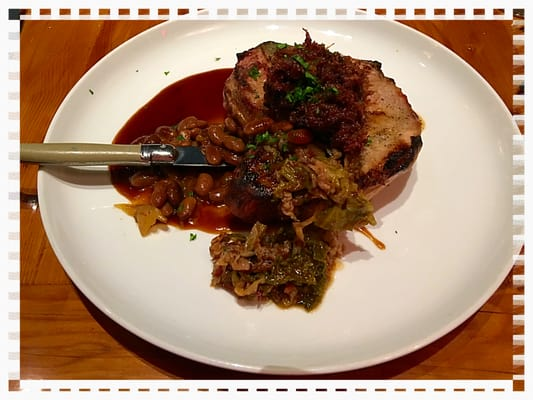burger: (22, 141, 230, 171)
